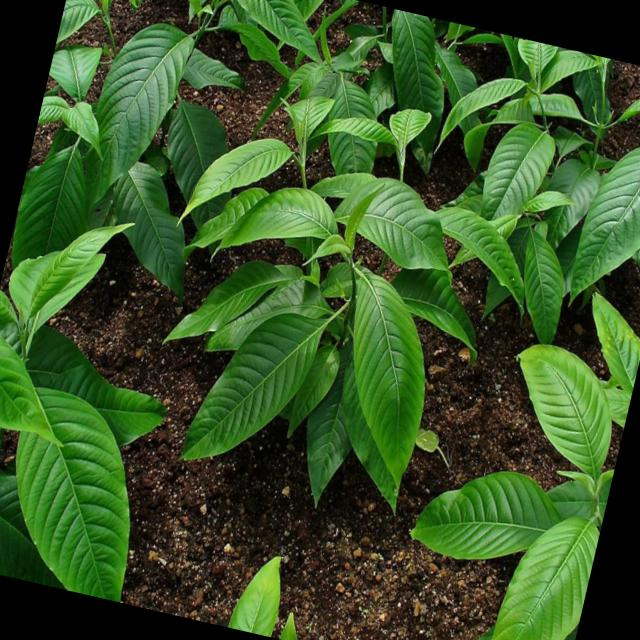Malabar Nut: (268, 6, 640, 358), (143, 180, 487, 534), (390, 300, 640, 640), (0, 252, 240, 594), (27, 31, 251, 288)
